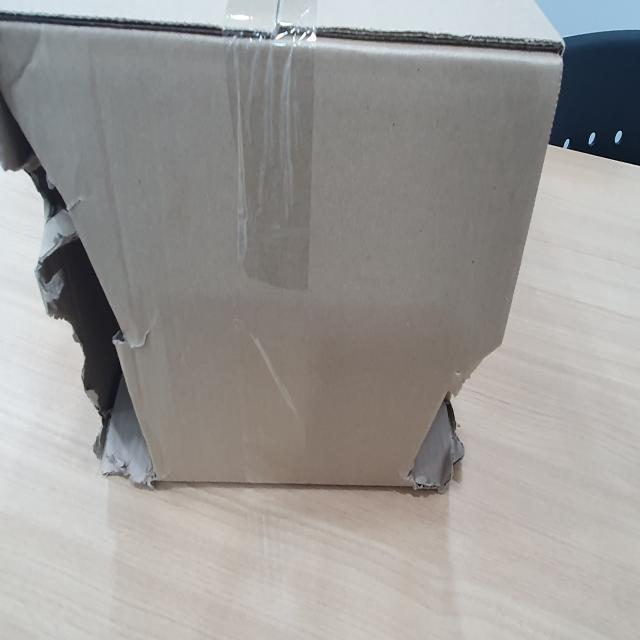hole: (48, 240, 159, 486), (393, 322, 505, 493), (1, 91, 69, 219)
